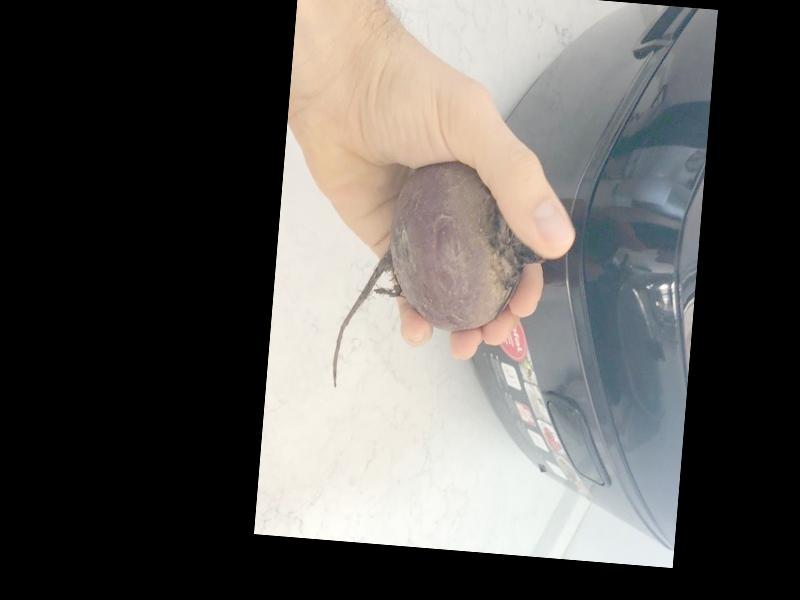Beet: (331, 154, 549, 403)
